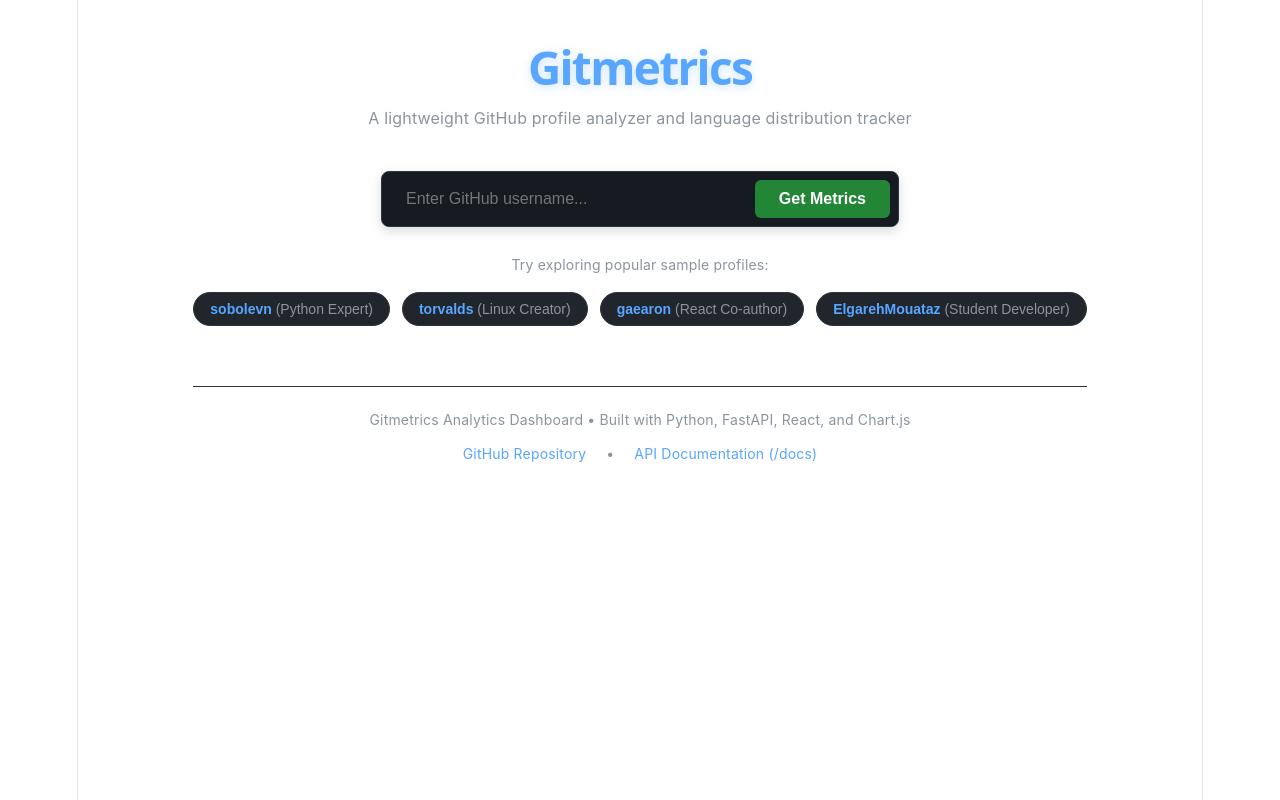
Test: App Component › displays error message on API failure
Type "invaliduser" into the field with placeholder "Enter GitHub username...". click: (566, 199)
box: [390,180,743,218]
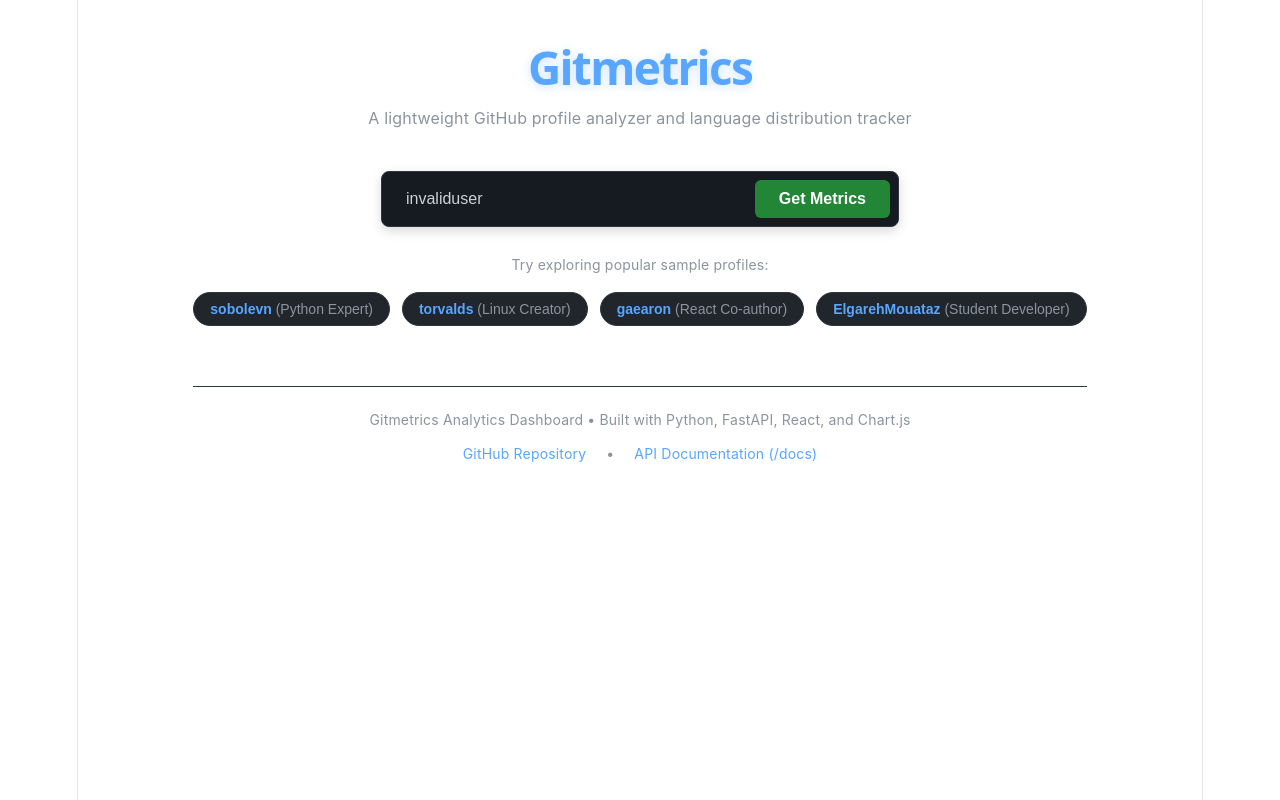
Click the button "Get Metrics". click: (822, 199)
box: [755,180,890,218]
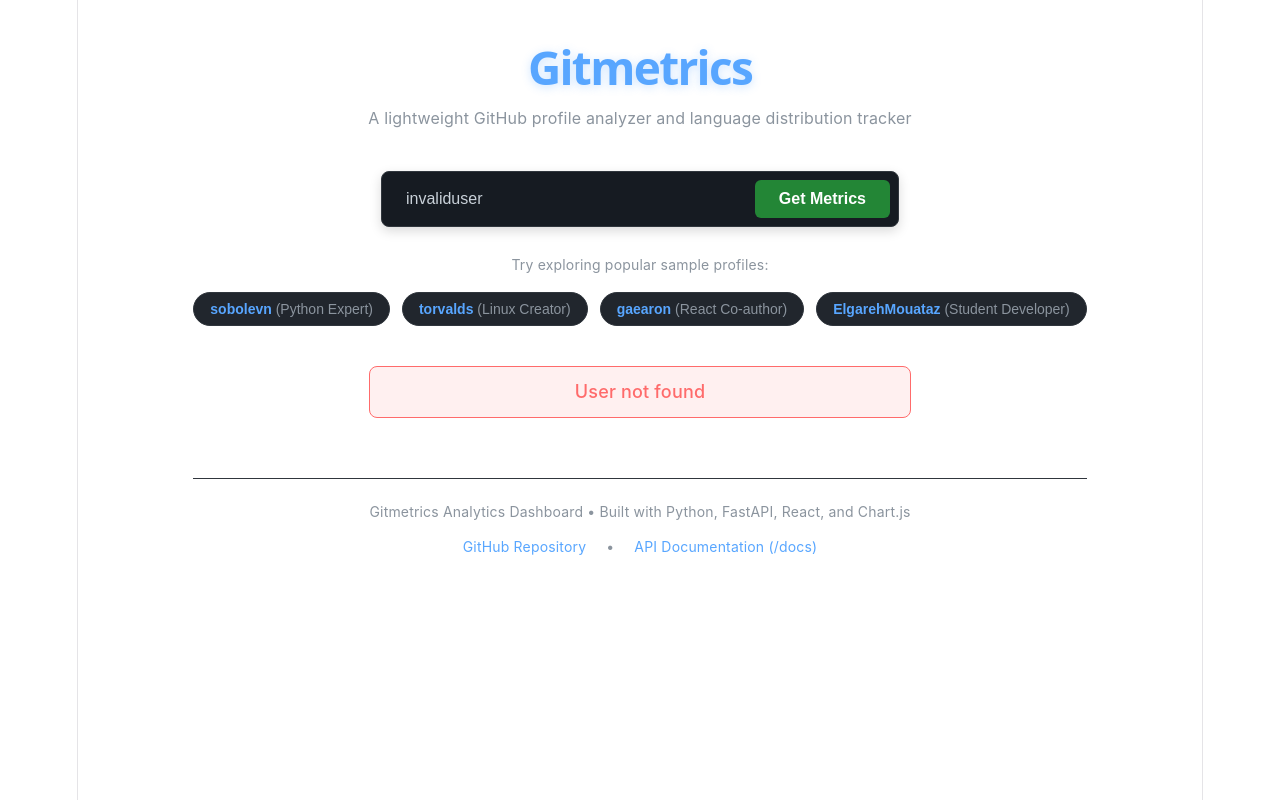
Now the text "User not found" is shown, box [369,366,911,418]
